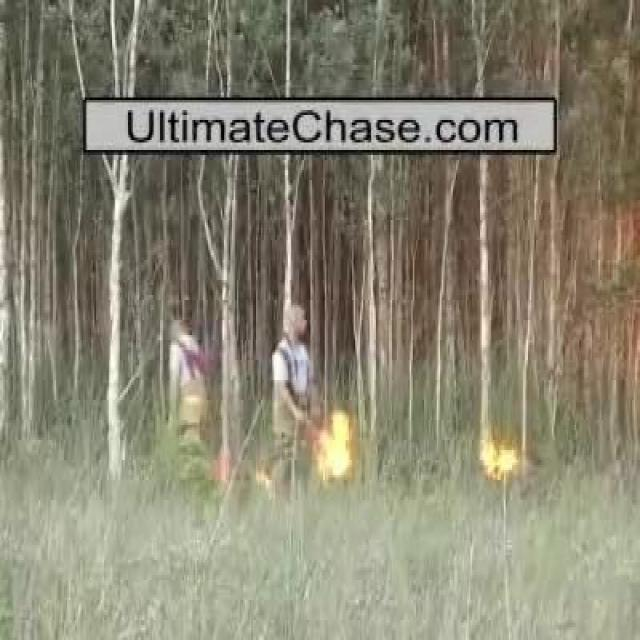Fire: (310, 410, 349, 482), (479, 436, 518, 476)
